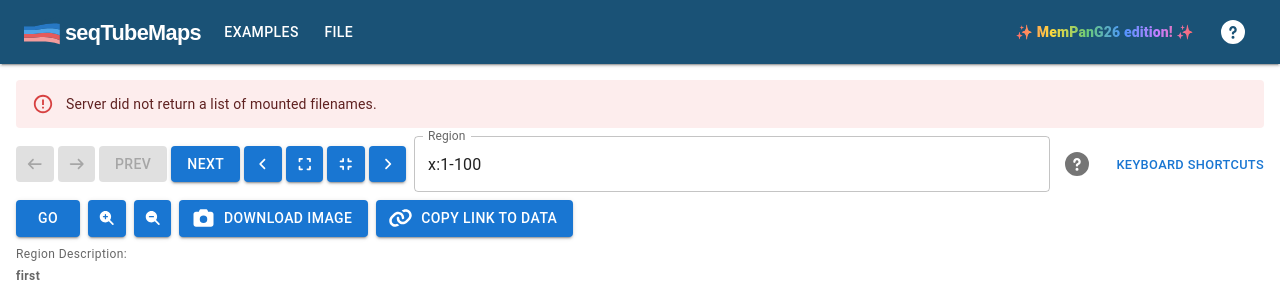
Test case: walks the BED regions with Prev and Next
The image size is (1280, 297).
Expected: the button "Prev" is disabled, left=99, top=146, right=167, bottom=182
Click the button "Next" at (206, 164), box left=171, top=146, right=240, bottom=182
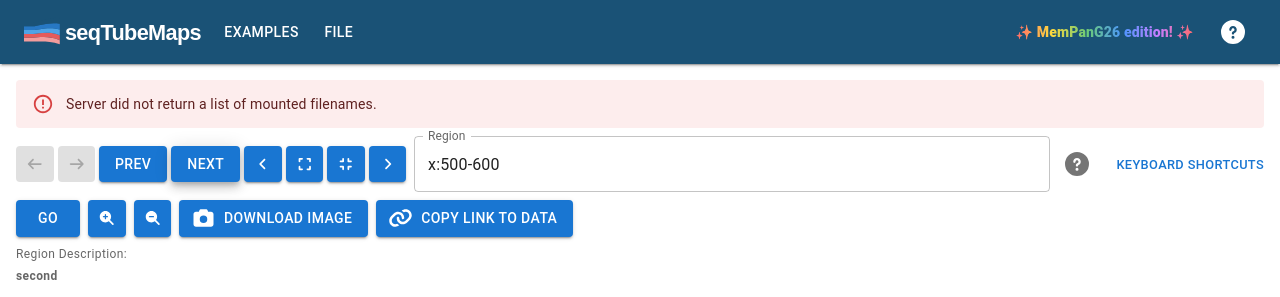
Expected: the dropdown labelled "Region" holds "x:500-600", left=423, top=145, right=1011, bottom=183
Expected: the button "Prev" is enabled, left=99, top=146, right=167, bottom=182
